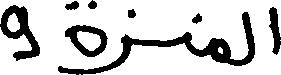X: (69, 0, 103, 74), (0, 0, 38, 65), (105, 5, 129, 74), (211, 33, 228, 68), (270, 2, 280, 59), (245, 7, 253, 69), (184, 27, 189, 55)
